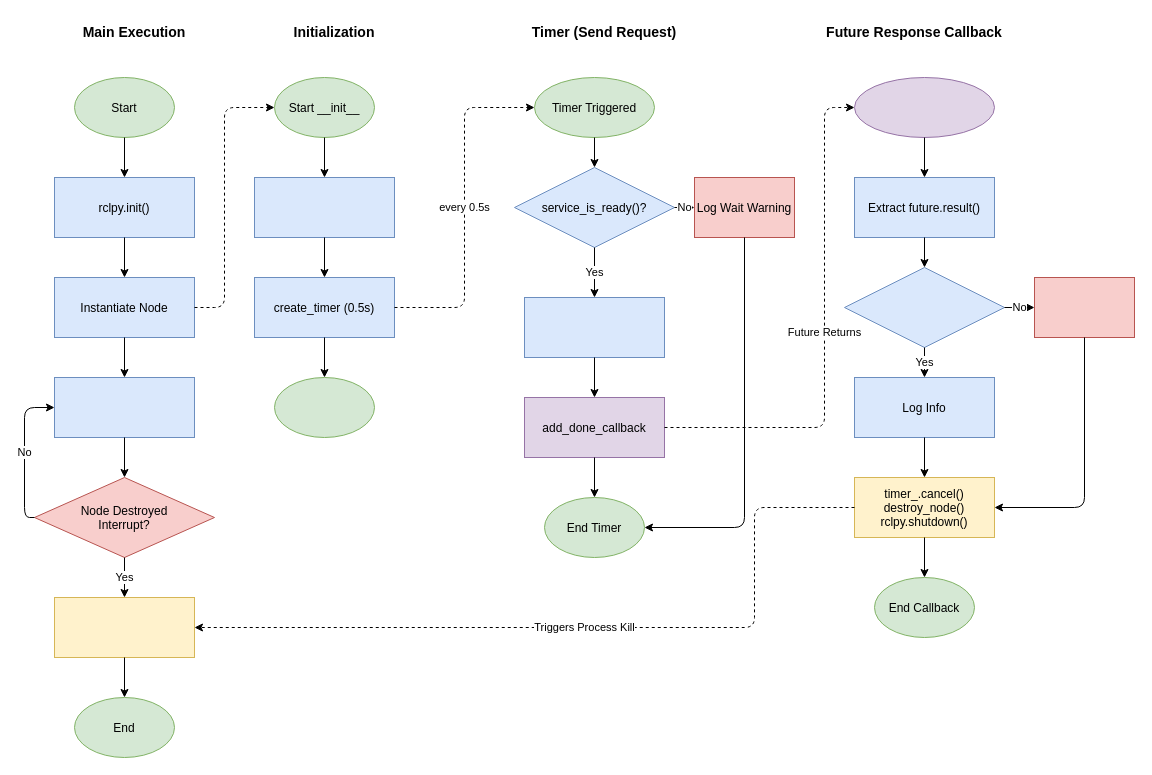
Some shapes in this 1152 by 775 pixel diagram are drawn without their labels. Each missing label, with the centre of its shape:
call_async(request): pixel 594 327
create_client "greetings": pixel 324 207
End __init__: pixel 324 407
Log Error: pixel 1084 307
rclpy.shutdown(): pixel 124 627
rclpy.spin(): pixel 124 407
response.success?: pixel 924 307
Server Responds (Future completed): pixel 924 107
